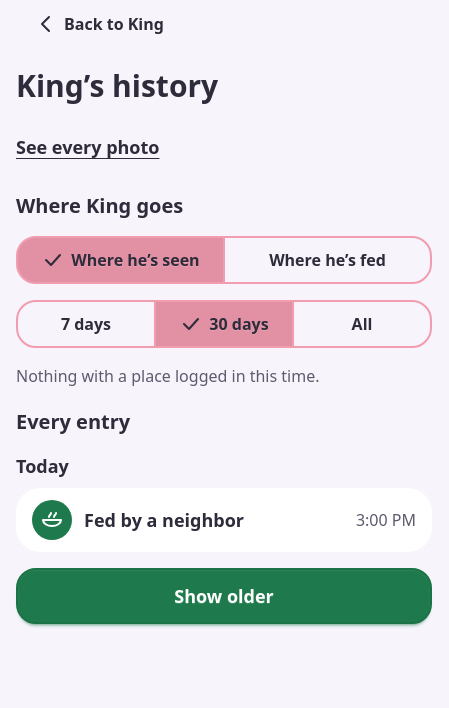
Test: HistoryPage — every entry › keeps what is shown when older entries can’t be loaded, and can try again
Click the button "Show older" at (224, 596), box [16,568,432,624]
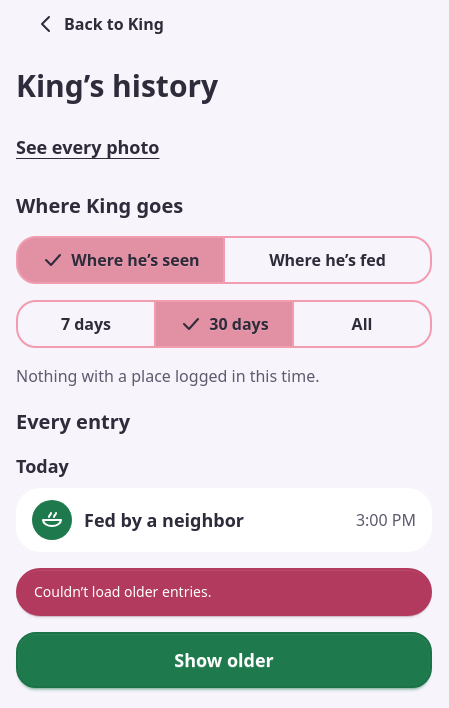
Expected: the number of list items is 1, [16,488,432,552]
Expected: the message reads "Couldn’t load older entries.", [34,582,211,601]
Click the button "Show older" at (224, 660), box [16,632,432,688]
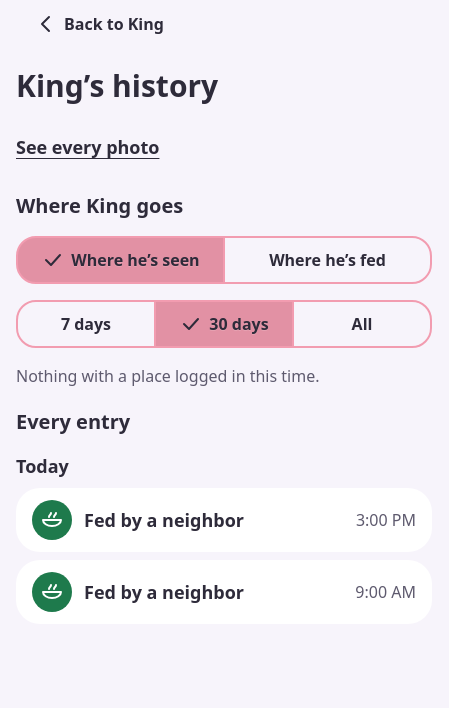
Expected: the number of list items is 2, [16,488,432,552]; [16,560,432,624]
Expected: the message "Couldn’t load older entries." is gone
